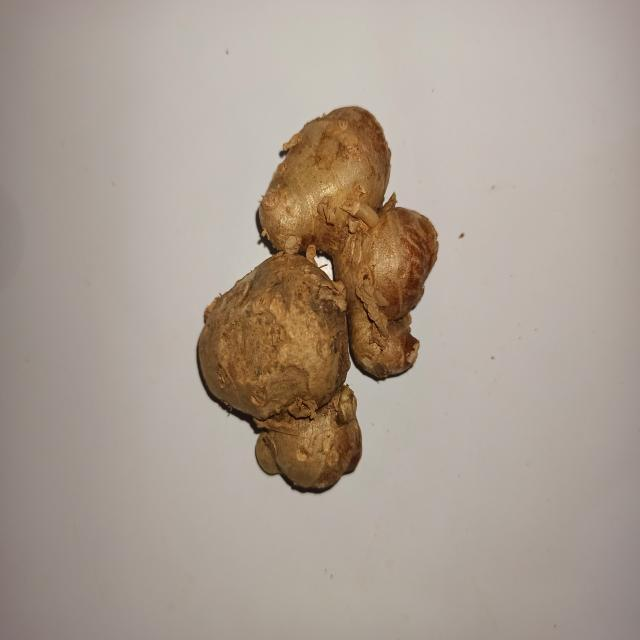ginger: (212, 109, 428, 492)
